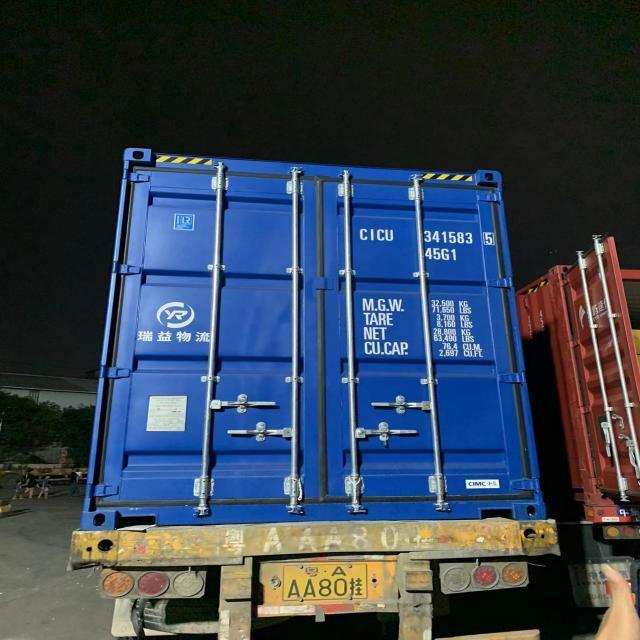ISO: (427, 247, 458, 262)
container_number: (360, 228, 498, 246)
